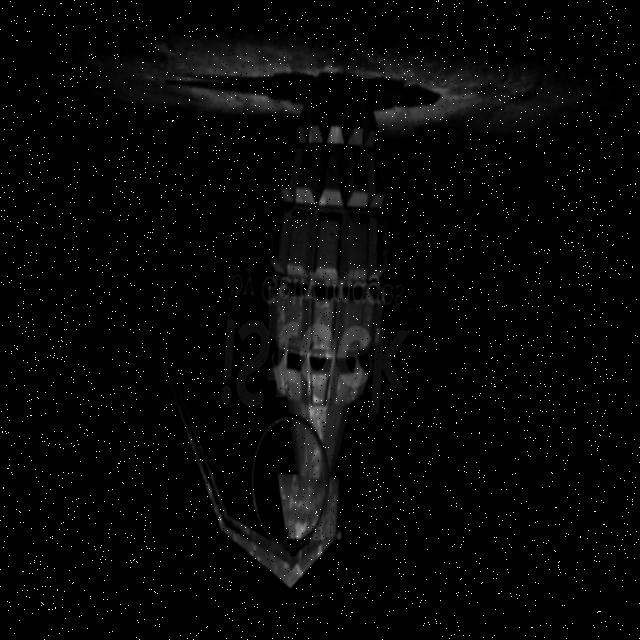grenade: (158, 70, 406, 588)
